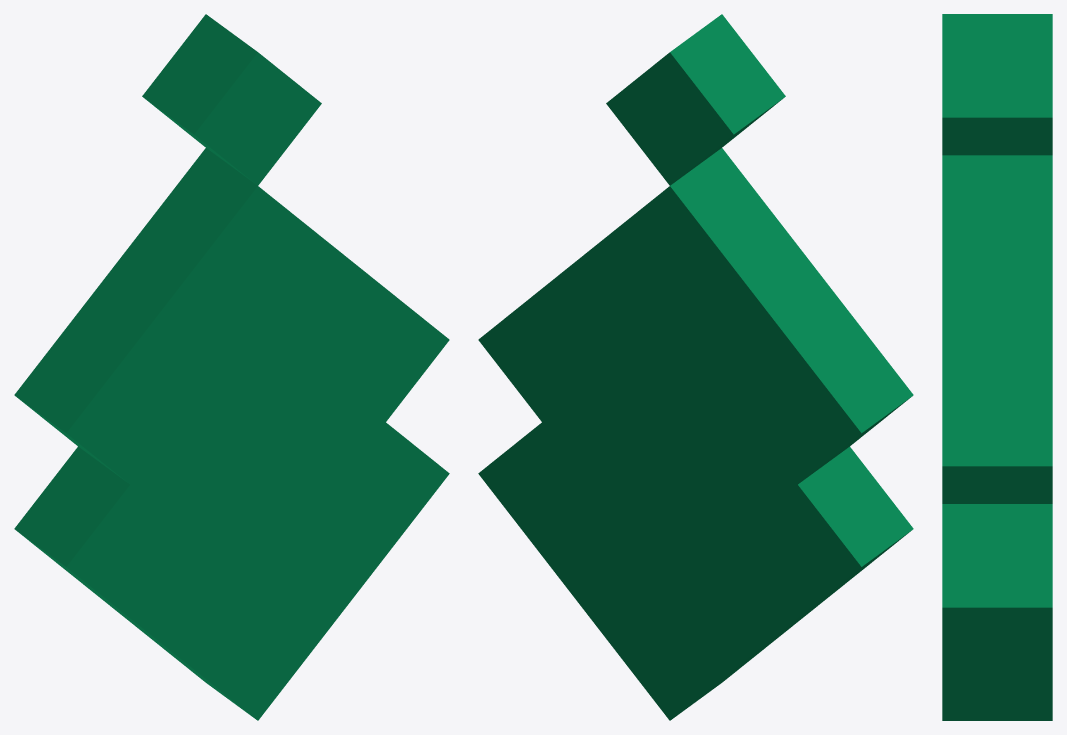
Rendered from feuille.gltf.
3 renders of one model, left to right at view 1: azimuth 30°, elevation 25°; view 2: azimuth 150°, elevation 25°; view 3: azimuth 270°, elevation 25°, orthographic. The views are drawn at different scales.
Visible parts, largest first — view 1: leaf-Local; view 2: leaf-Local; view 3: leaf-Local.
Part boxes in pixels (x1=…): leaf-Local: x1=14, y1=14, x2=449, y2=720; leaf-Local: x1=478, y1=14, x2=913, y2=720; leaf-Local: x1=942, y1=14, x2=1052, y2=720.
Bounding box in the file's own units: 4.24 × 7.07 × 1.
Materials: 1 (1 with a texture image).
